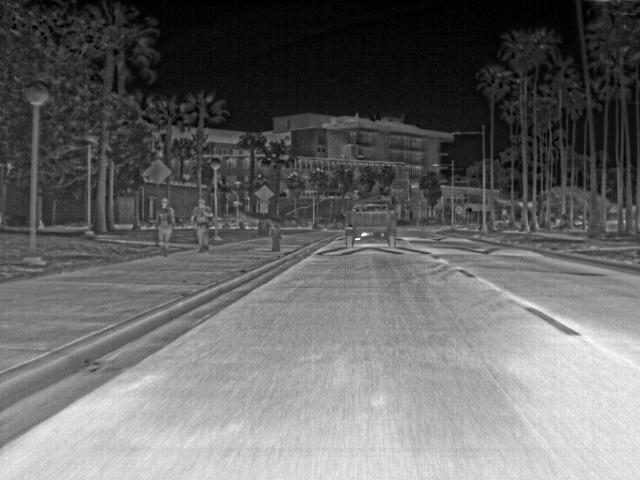car: (345, 200, 397, 248)
person: (154, 196, 176, 256), (191, 198, 214, 253)
